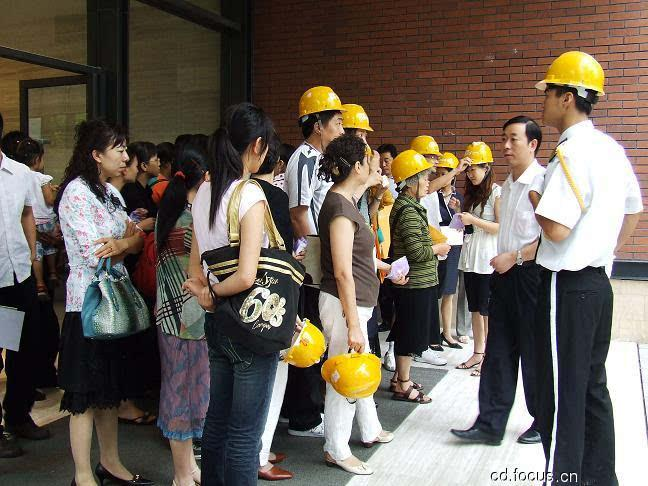helmet: (277, 318, 330, 373), (324, 353, 387, 399), (540, 51, 606, 94), (299, 88, 343, 123), (394, 152, 434, 184), (345, 105, 375, 135), (466, 143, 495, 167), (414, 137, 441, 156), (443, 153, 459, 169)
